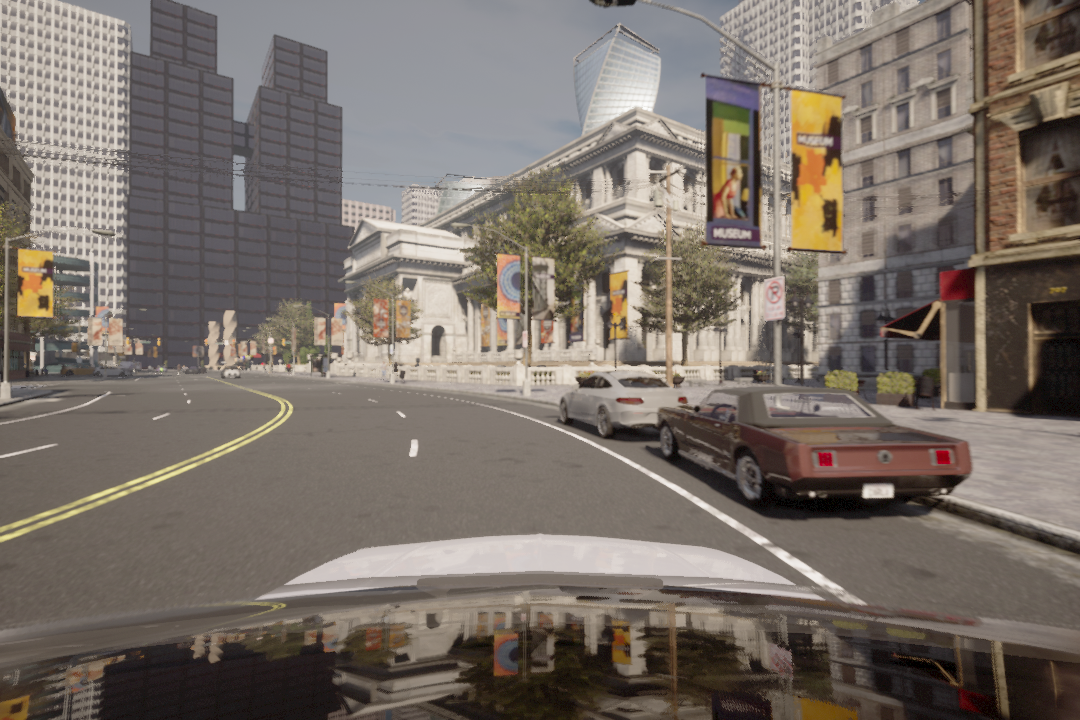TrafficSign_nstop: (764, 277, 786, 320)
